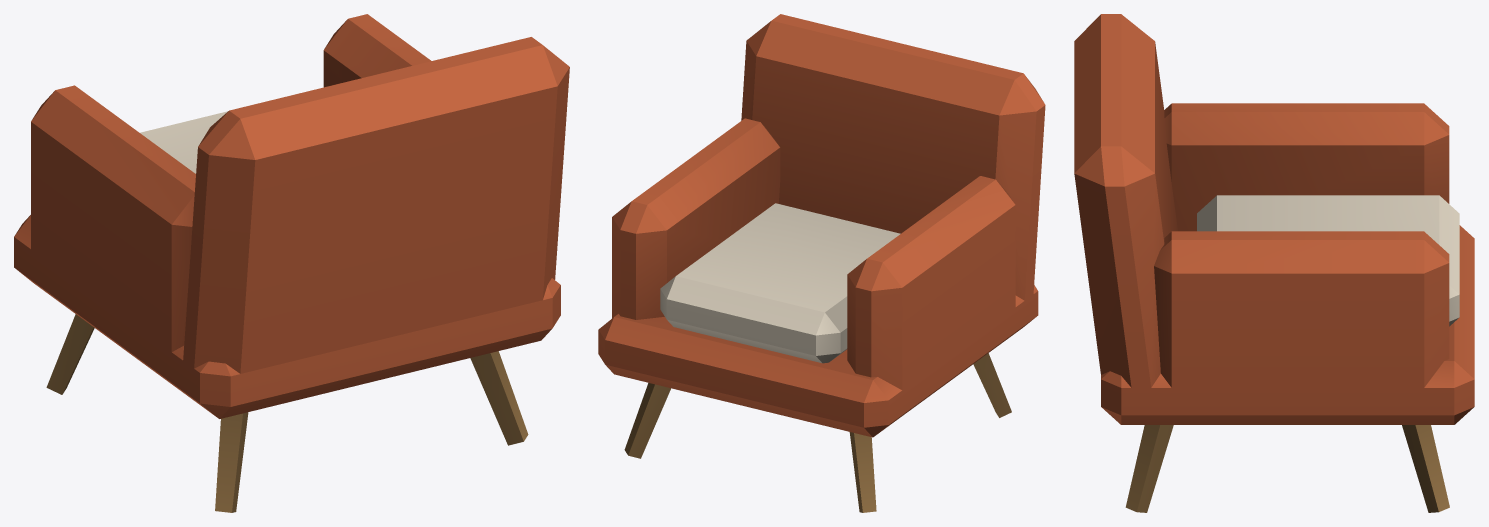
The model's file is armchair_01.glb.
The picture shows the model from 3 angles, left to right: view 1: azimuth 30°, elevation 25°; view 2: azimuth 150°, elevation 25°; view 3: azimuth 270°, elevation 25°; orthographic projection. The views are drawn at different scales.
Parts seen in each view (by area): view 1: armchair_01_mesh; view 2: armchair_01_mesh; view 3: armchair_01_mesh.
Part boxes in pixels (x1,y1,x2,y2): armchair_01_mesh: (14,14,569,512); armchair_01_mesh: (598,14,1045,512); armchair_01_mesh: (1074,14,1474,512).
Bounding box in the file's own units: 0.74 × 0.8056 × 0.7929.
1 material, 1 textured.
